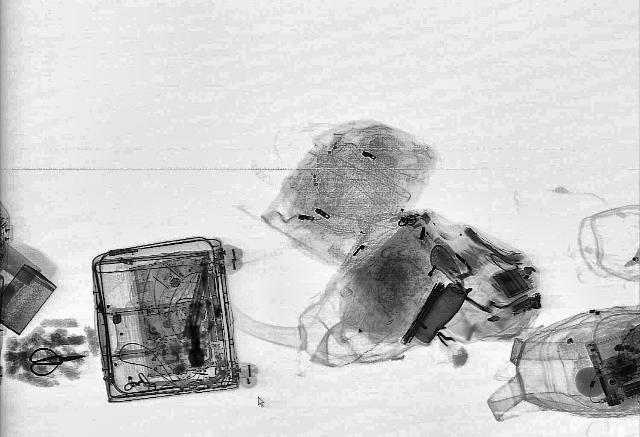Scissors: (26, 343, 94, 377)
